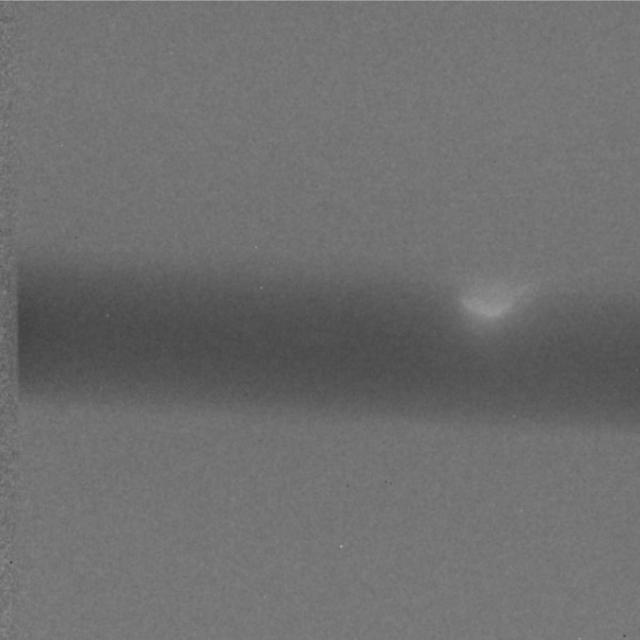bite edge: (457, 278, 520, 325)
